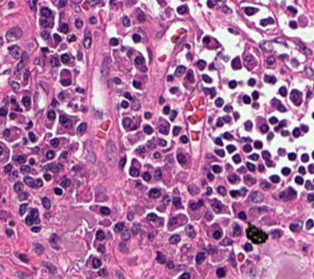nucleus: (246, 224, 267, 243), (106, 140, 115, 165), (16, 52, 27, 72), (6, 27, 21, 40), (135, 56, 146, 71), (8, 45, 20, 58), (249, 191, 263, 202), (83, 30, 91, 48), (100, 57, 108, 75), (45, 163, 61, 172), (43, 262, 55, 273), (211, 199, 221, 212), (244, 55, 255, 66), (174, 65, 185, 76), (24, 176, 35, 187), (231, 57, 241, 69), (50, 234, 58, 249), (30, 208, 38, 222), (275, 120, 285, 131), (244, 175, 255, 185), (188, 184, 199, 194), (149, 188, 160, 198), (33, 243, 43, 254), (260, 41, 272, 50), (177, 153, 186, 165), (185, 225, 194, 237), (156, 251, 165, 263), (204, 88, 215, 97), (77, 123, 86, 134), (228, 174, 239, 183), (22, 96, 30, 108), (19, 203, 27, 215), (121, 227, 129, 239), (60, 178, 70, 187), (172, 197, 181, 207), (114, 222, 124, 231), (264, 75, 275, 83), (42, 197, 50, 208), (131, 223, 139, 234), (233, 224, 241, 235), (196, 252, 204, 263), (186, 70, 193, 82), (220, 238, 232, 245), (229, 252, 235, 266), (50, 57, 59, 66), (159, 125, 168, 134), (129, 167, 138, 176), (122, 117, 130, 127), (15, 155, 25, 163), (100, 207, 110, 215), (96, 230, 104, 240), (271, 230, 281, 238), (169, 235, 179, 243), (154, 168, 161, 179), (61, 54, 69, 63), (266, 56, 274, 65), (197, 60, 205, 69), (202, 74, 211, 82), (132, 80, 141, 88), (277, 103, 286, 111), (47, 110, 55, 119), (59, 116, 68, 124), (244, 121, 252, 130), (144, 125, 152, 134), (246, 162, 254, 171), (260, 181, 269, 189), (14, 182, 22, 191), (217, 186, 225, 195), (189, 201, 198, 209), (25, 215, 33, 224), (213, 230, 221, 239), (19, 254, 28, 262), (92, 258, 100, 267), (216, 268, 224, 277), (60, 79, 71, 85), (119, 157, 125, 168), (41, 31, 49, 39), (132, 34, 140, 42), (215, 98, 223, 106), (260, 124, 268, 132), (50, 138, 58, 146), (254, 140, 262, 148), (46, 151, 54, 159), (262, 151, 270, 159), (4, 164, 12, 172), (21, 165, 29, 173), (9, 171, 17, 179), (244, 243, 252, 251), (11, 81, 18, 90), (173, 126, 180, 135), (29, 132, 36, 141), (223, 132, 232, 139), (249, 153, 258, 160), (233, 154, 240, 163), (212, 165, 221, 172), (143, 172, 150, 181), (270, 175, 279, 182), (230, 190, 239, 197), (19, 192, 28, 199), (147, 213, 156, 220), (169, 217, 176, 226), (119, 242, 126, 251), (170, 110, 176, 120), (15, 272, 27, 277), (110, 38, 118, 45), (229, 80, 236, 88), (124, 92, 132, 99), (243, 95, 250, 103), (14, 103, 21, 111), (222, 115, 230, 122), (269, 117, 277, 124), (243, 144, 251, 151), (227, 145, 235, 152), (136, 146, 144, 153), (238, 211, 245, 219), (205, 212, 212, 220), (98, 269, 106, 276), (215, 150, 224, 156), (24, 70, 29, 80), (53, 34, 60, 41), (68, 34, 75, 41), (248, 78, 255, 85), (121, 101, 128, 108), (224, 105, 231, 112), (180, 135, 187, 142), (215, 138, 222, 145), (266, 159, 273, 166), (238, 166, 245, 173), (97, 245, 104, 252), (147, 49, 151, 61), (252, 91, 258, 99), (158, 139, 166, 145), (54, 188, 62, 194), (180, 273, 189, 278), (203, 36, 209, 43), (113, 77, 120, 83), (170, 87, 177, 93), (51, 99, 57, 106), (163, 106, 169, 113), (144, 112, 151, 118), (3, 129, 9, 136), (267, 133, 273, 140), (278, 148, 284, 155), (153, 152, 160, 158), (44, 173, 50, 180), (207, 173, 213, 180), (36, 179, 42, 186), (6, 229, 12, 236), (209, 246, 216, 252), (167, 261, 173, 268), (0, 107, 5, 115), (217, 118, 222, 126), (206, 187, 211, 195), (31, 226, 39, 231), (167, 75, 173, 81), (252, 102, 258, 108), (117, 271, 123, 277), (186, 53, 191, 60), (59, 92, 64, 99), (234, 112, 239, 119), (26, 121, 31, 128), (258, 164, 263, 171), (77, 51, 81, 59), (164, 196, 168, 204), (29, 158, 34, 164), (76, 88, 83, 92), (243, 137, 250, 141), (10, 113, 15, 118), (61, 152, 66, 157), (159, 97, 163, 103), (198, 200, 202, 206), (128, 213, 132, 219), (42, 47, 47, 51), (209, 64, 213, 69), (11, 98, 15, 103), (0, 37, 2, 46), (185, 44, 189, 48), (10, 221, 13, 225)
